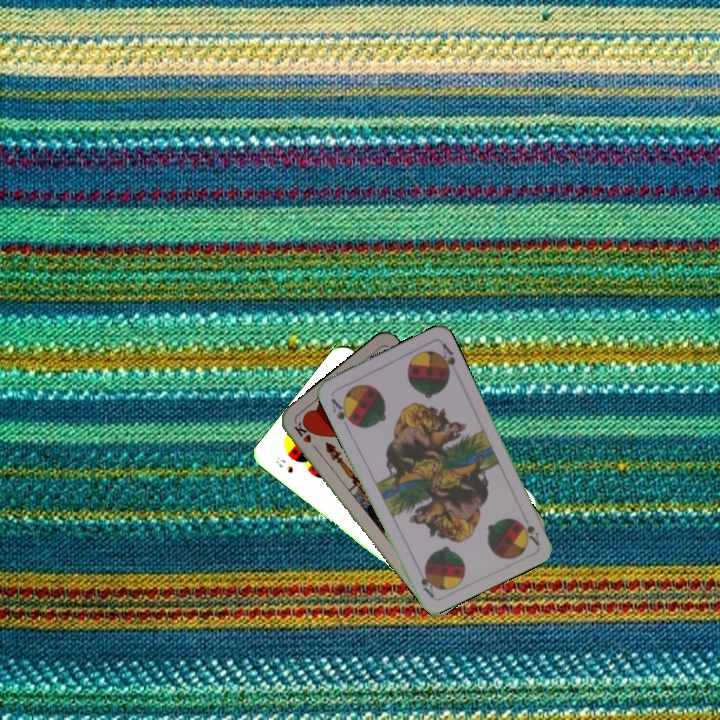HK: (290, 418, 321, 454)
S8: (272, 453, 296, 476)
SA: (327, 394, 356, 427), (515, 517, 542, 548)
